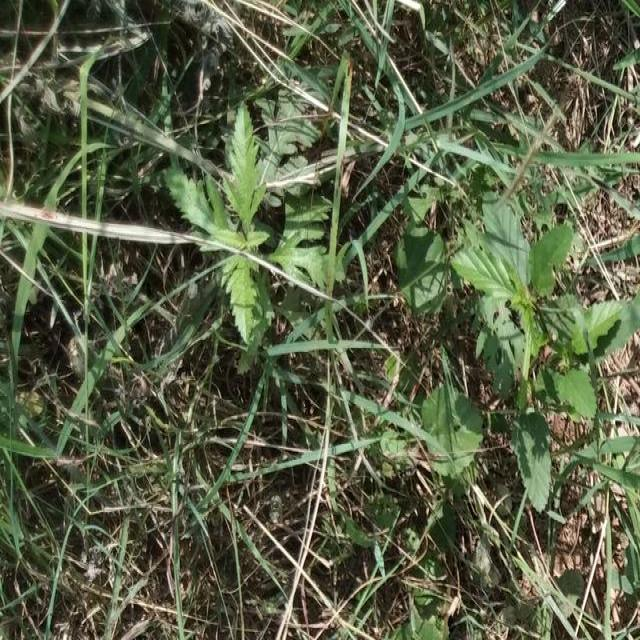weed: (472, 201, 640, 485), (171, 100, 322, 337)
